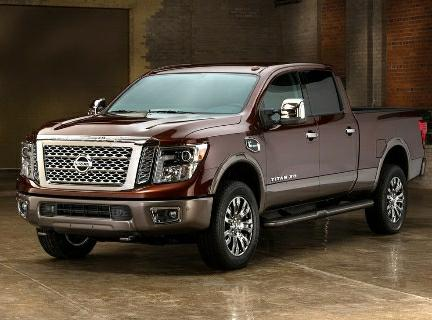car: (15, 57, 428, 268)
